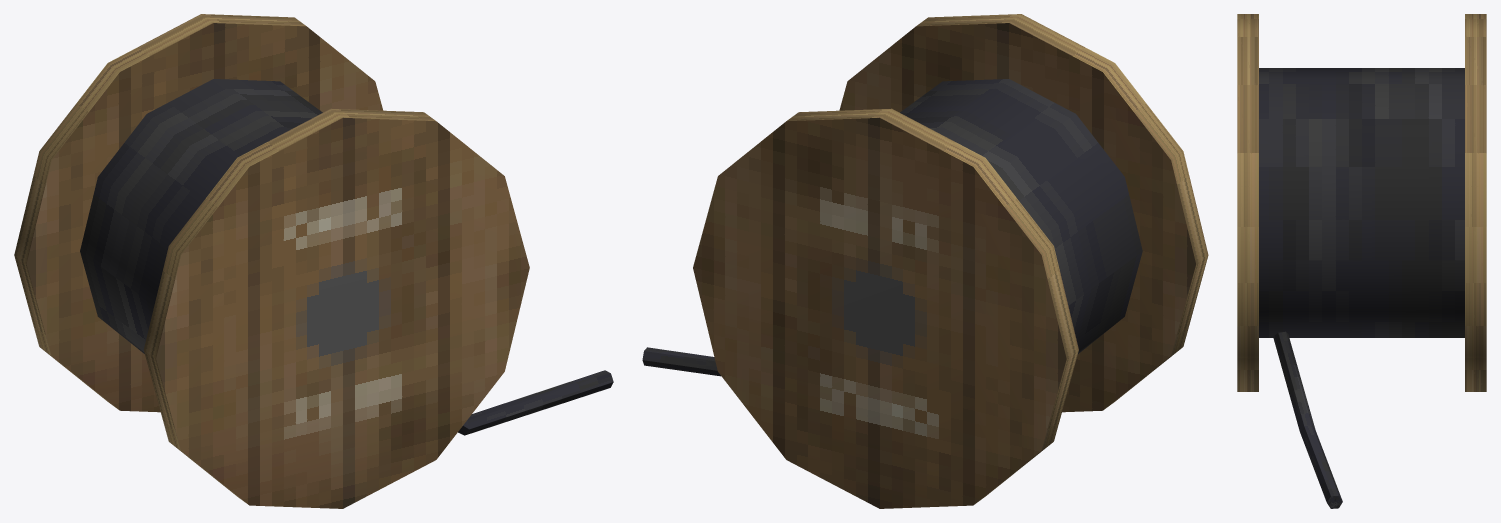
Rendered from cable_drum.glb.
3 views of the same model, side by side, from view 1: azimuth 30°, elevation 25°; view 2: azimuth 150°, elevation 25°; view 3: azimuth 270°, elevation 25° (orthographic). The views are drawn at different scales.
Parts seen in each view (by area): view 1: cable_drum; view 2: cable_drum; view 3: cable_drum.
Boxes of the visible parts, x1=… form: cable_drum: x1=14, y1=14, x2=613, y2=508; cable_drum: x1=642, y1=14, x2=1208, y2=508; cable_drum: x1=1237, y1=14, x2=1486, y2=508.
Size of the model in its own units: 1.9 by 1.4 by 0.92.
1 material, 1 textured.
